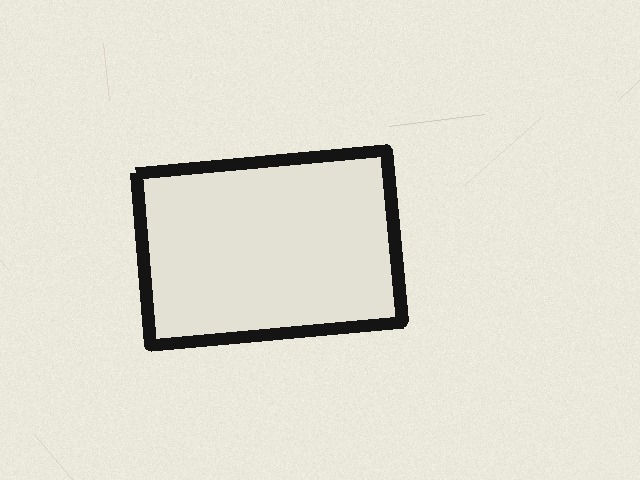parking_area: (136, 150, 402, 345)
